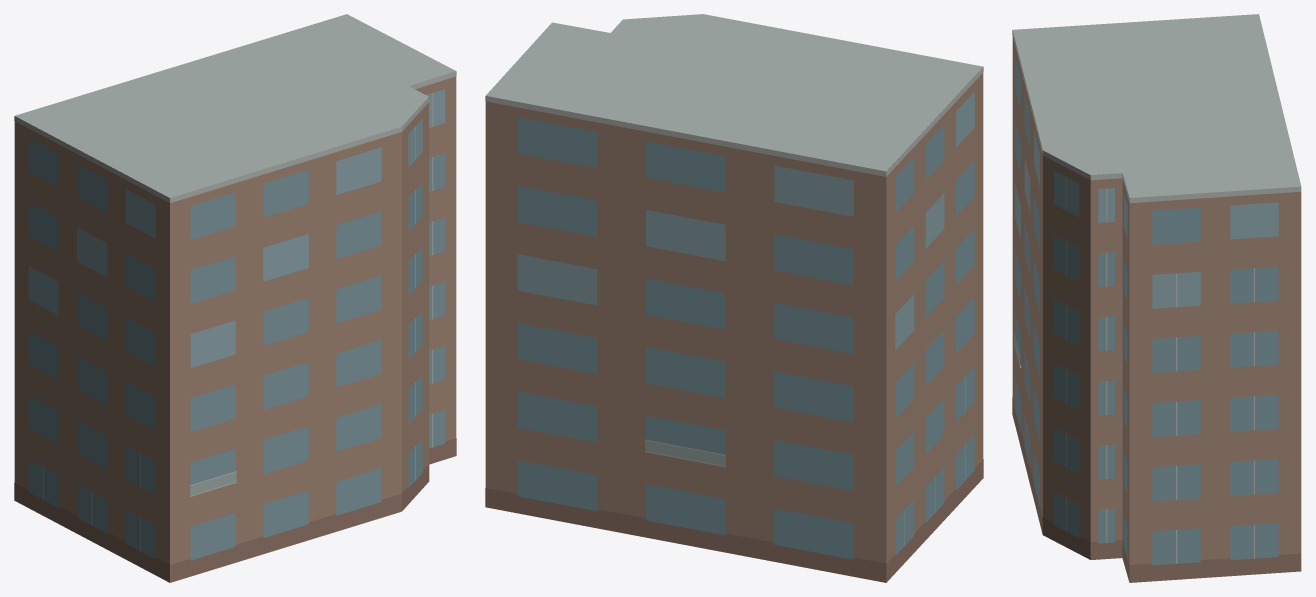
Rendered from survey-upis-32875584.glb.
3 views of the same model, side by side, from view 1: azimuth 30°, elevation 25°; view 2: azimuth 150°, elevation 25°; view 3: azimuth 270°, elevation 25° (orthographic). The views are drawn at different scales.
Visible parts, largest first — view 1: survey-upis-32875584.tmp; view 2: survey-upis-32875584.tmp; view 3: survey-upis-32875584.tmp.
Part boxes in pixels (x1,y1,x2,y2): survey-upis-32875584.tmp: [14, 14, 456, 582]; survey-upis-32875584.tmp: [485, 14, 983, 582]; survey-upis-32875584.tmp: [1012, 14, 1301, 582].
Bounding box in the file's own units: 18.79 × 18.3 × 12.46.
